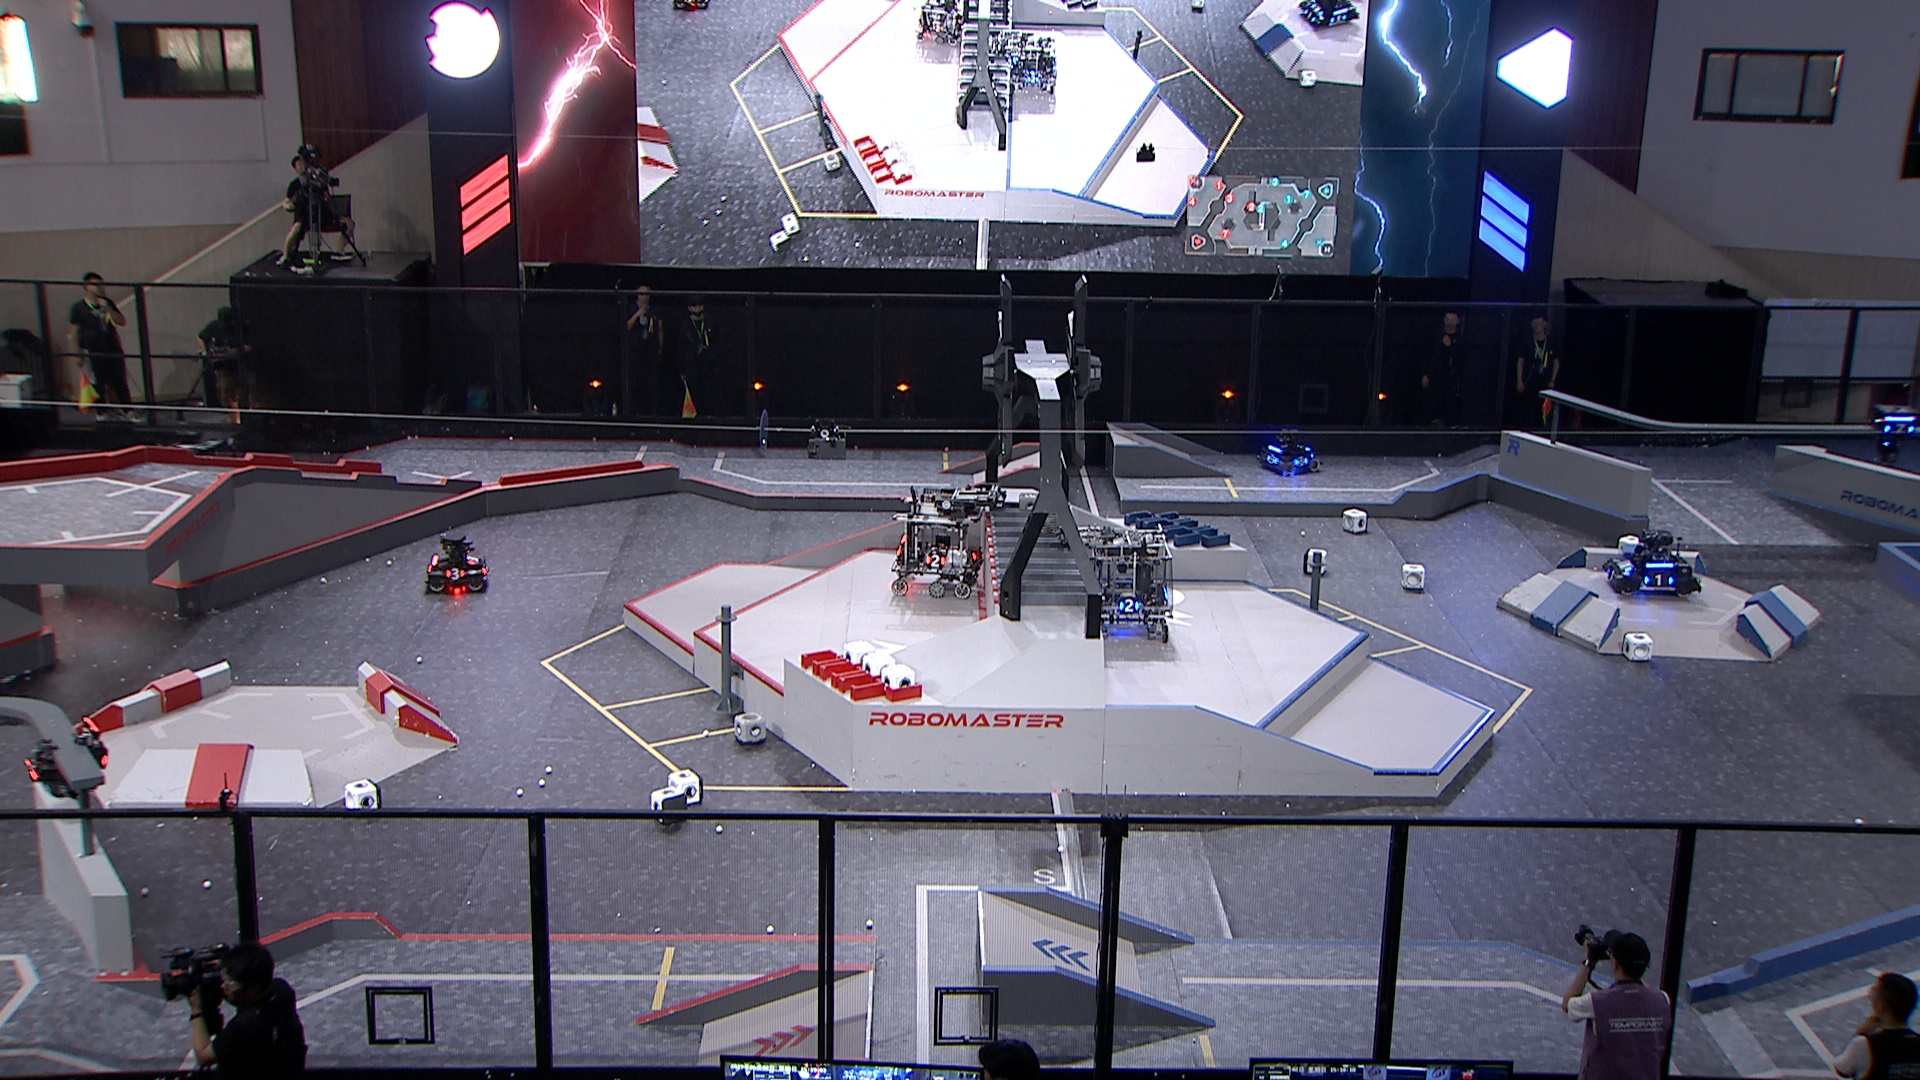armor: (1642, 572, 1676, 588), (1120, 597, 1143, 616), (22, 756, 40, 781), (923, 551, 948, 568), (1883, 422, 1917, 434), (444, 567, 465, 583), (1604, 566, 1619, 584), (1615, 556, 1633, 572), (1292, 456, 1309, 469), (465, 553, 480, 566), (1266, 454, 1280, 467)
car: (887, 485, 993, 603), (1073, 520, 1174, 642), (1598, 529, 1704, 597), (425, 531, 491, 593), (1253, 429, 1323, 479)
ignore: (1005, 26, 1058, 95)
watcher: (20, 713, 112, 799), (1866, 400, 1920, 465)
